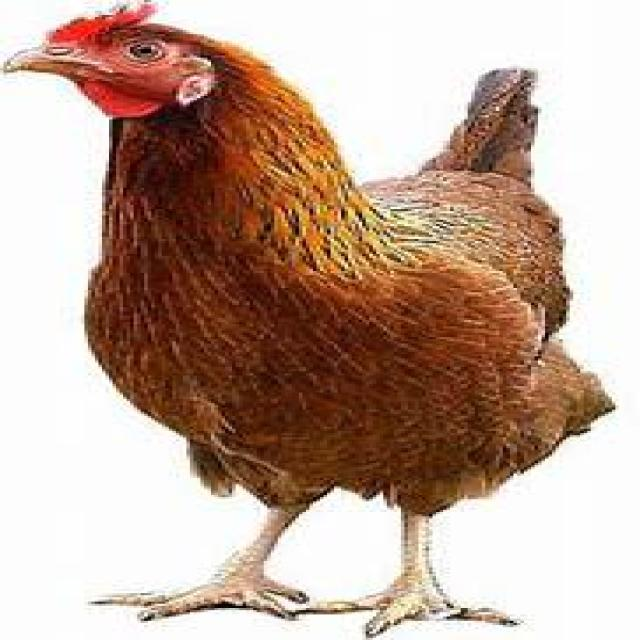hen: (4, 5, 614, 636)
